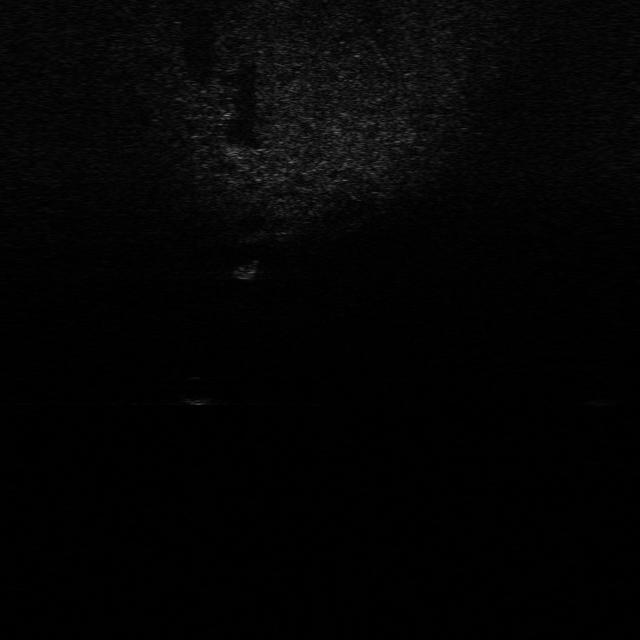ball: (177, 373, 223, 408)
cube: (231, 255, 263, 281)
